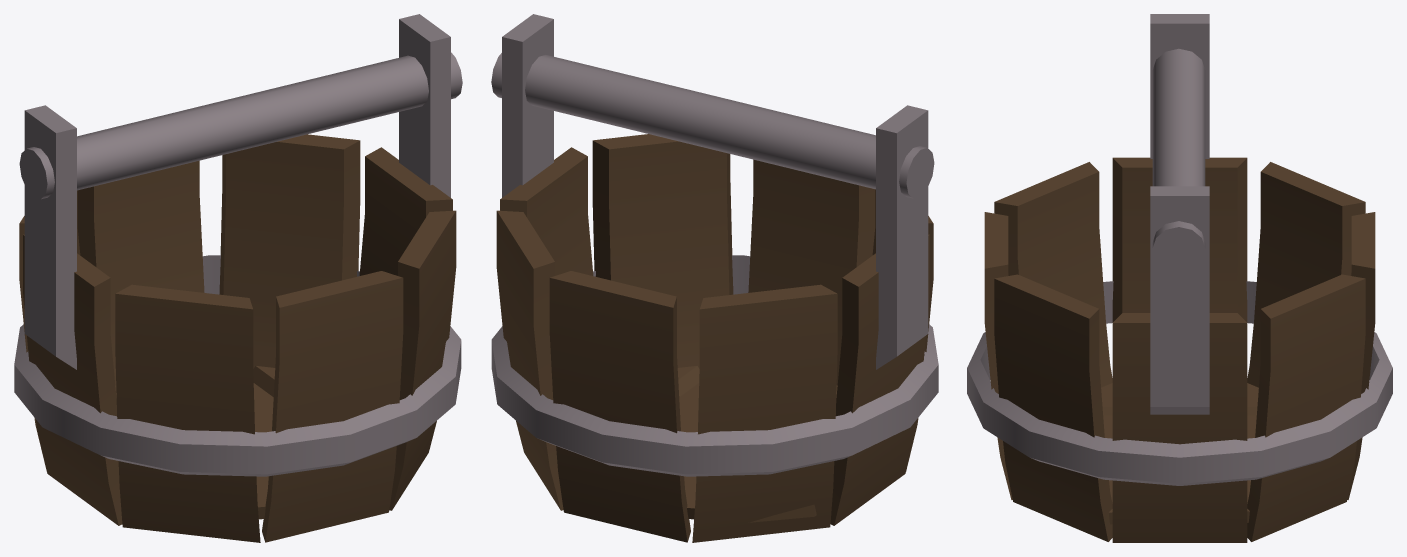
Rendered from Bucket.glb.
3 views of the same model, side by side, from view 1: azimuth 30°, elevation 25°; view 2: azimuth 150°, elevation 25°; view 3: azimuth 270°, elevation 25° (orthographic). The views are drawn at different scales.
Visible parts, largest first — view 1: Prop_Bucket; view 2: Prop_Bucket; view 3: Prop_Bucket.
Boxes of the visible parts, x1,y1,x2,y2 form: Prop_Bucket: (14,14,462,542); Prop_Bucket: (491,14,938,542); Prop_Bucket: (967,14,1392,542).
Bounding box in the file's own units: 0.7596 × 0.6795 × 0.7147.
Materials: 1 (1 with a texture image).
